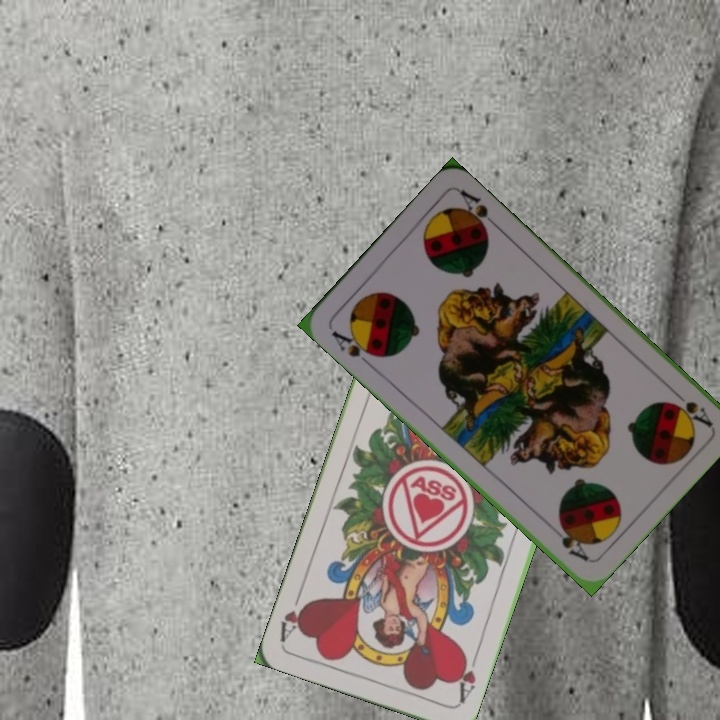HA: (451, 649, 481, 706)
SA: (327, 326, 381, 370), (666, 384, 715, 430)
